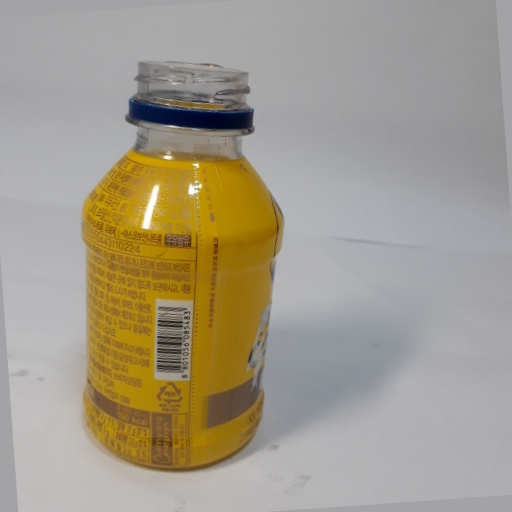Plastic_0: (76, 55, 283, 475)
